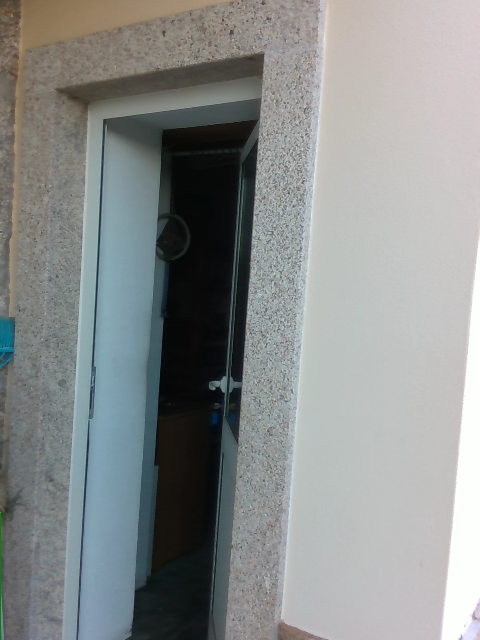semi: (63, 68, 268, 639)
